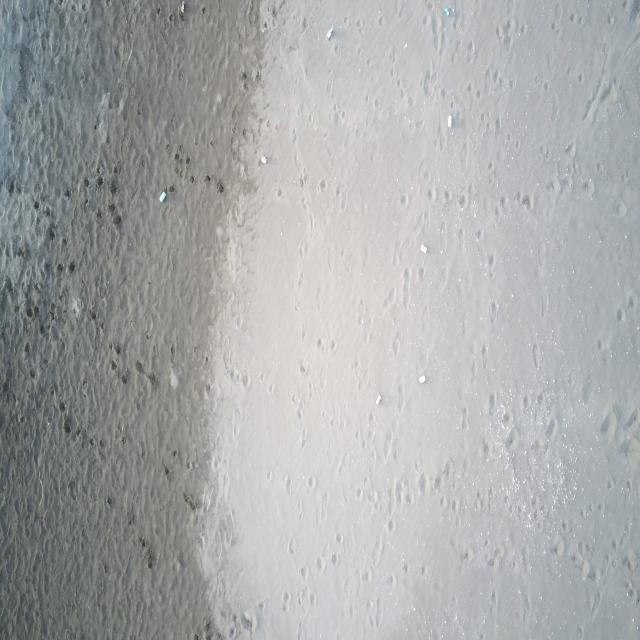Garbage: (241, 609, 255, 632), (417, 373, 426, 383), (444, 5, 452, 16), (326, 26, 332, 39), (159, 192, 166, 201), (420, 243, 427, 252), (447, 115, 452, 127), (375, 393, 380, 404), (260, 155, 266, 163), (180, 0, 183, 15)
